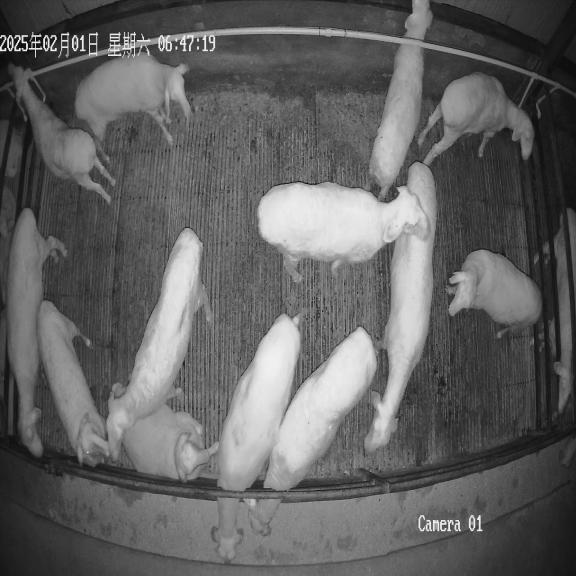eating: (245, 327, 377, 536), (212, 314, 302, 561)
lying: (124, 404, 218, 482)
stand: (106, 228, 212, 460), (364, 162, 437, 454), (257, 182, 429, 282), (6, 208, 67, 456), (9, 64, 115, 204), (369, 0, 432, 200), (38, 300, 107, 466), (74, 52, 191, 146), (417, 72, 534, 165), (446, 250, 542, 338)
